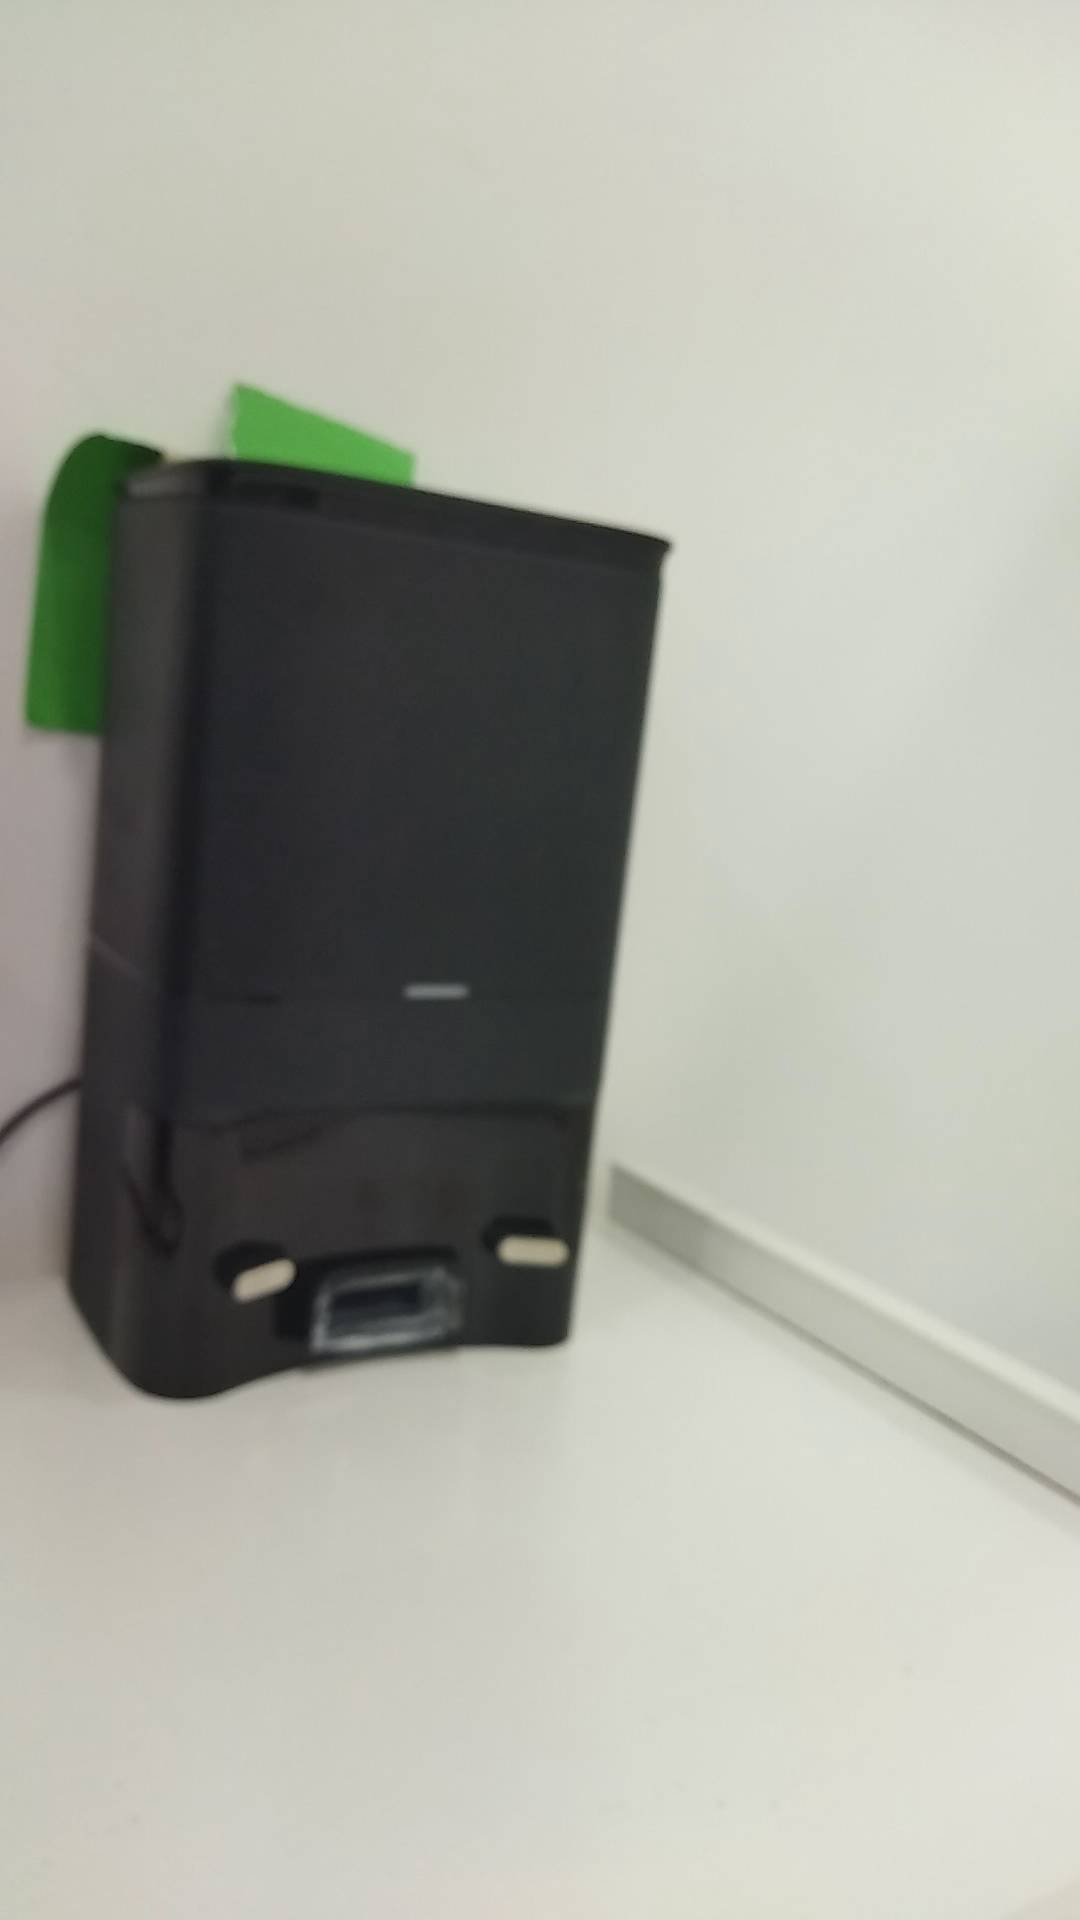dust collecting barrel: (70, 454, 673, 1400)
